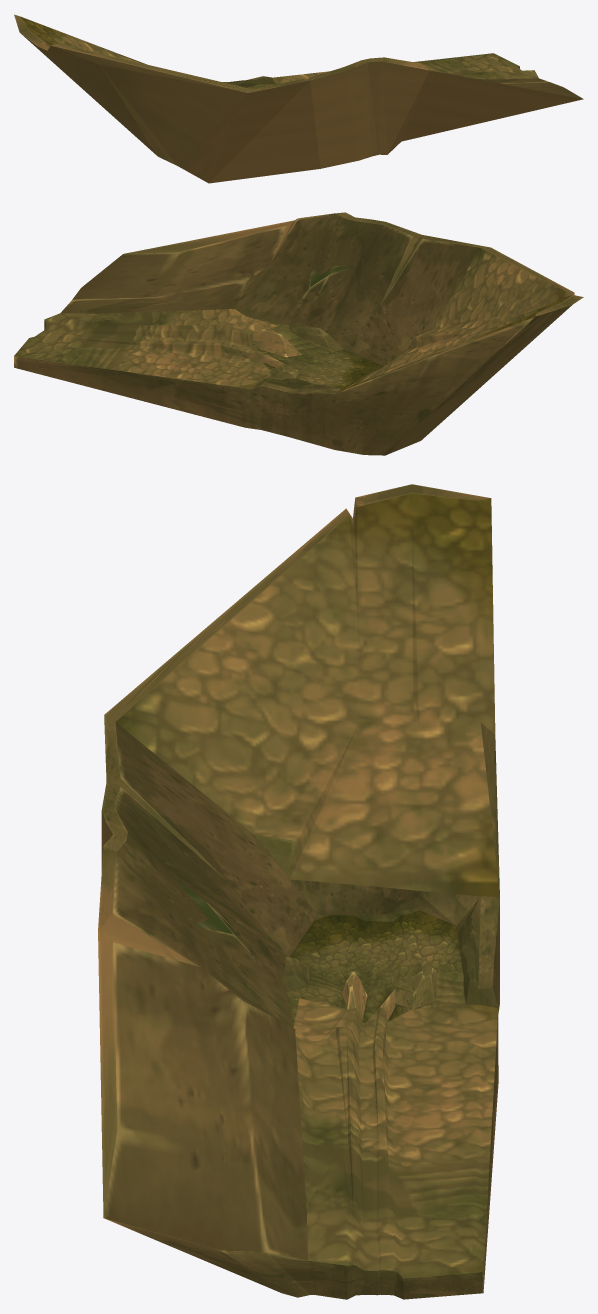
Rendered from landbridge.glb.
3 renders of one model, top to bottom at view 1: azimuth 30°, elevation 25°; view 2: azimuth 150°, elevation 25°; view 3: azimuth 270°, elevation 25°, orthographic. The views are drawn at different scales.
Visible parts, largest first — view 1: Plane001_Material #34_0.002; view 2: Plane001_Material #34_0.002; view 3: Plane001_Material #34_0.002.
Part boxes in pixels (x1,y1,x2,y2): Plane001_Material #34_0.002: (14,14,583,183); Plane001_Material #34_0.002: (14,212,583,455); Plane001_Material #34_0.002: (98,484,499,1299).
Size of what is drawn, in the model's own units: 51.09 by 16.11 by 17.84.
1 material, 1 textured.
